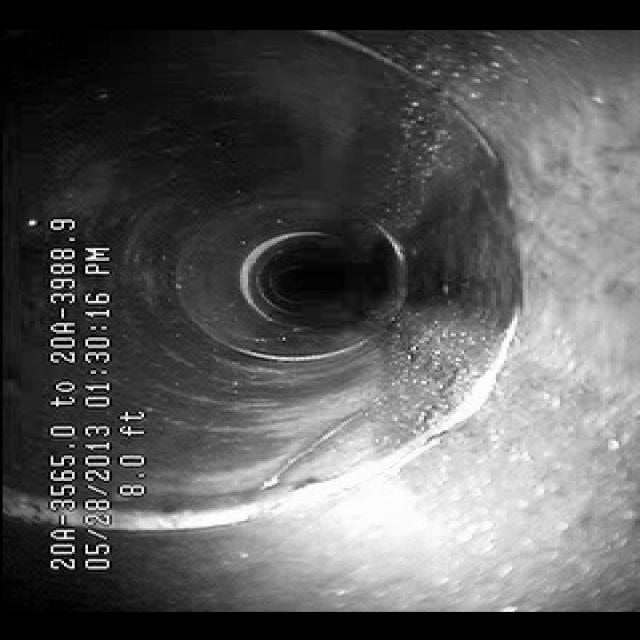Crack: (241, 384, 407, 478)
